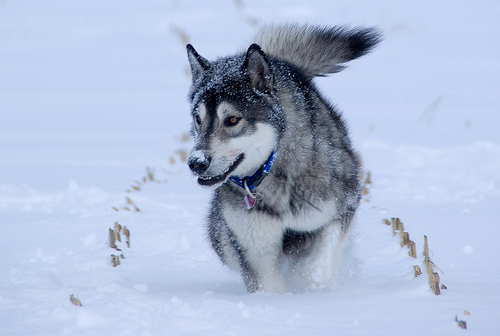dog: (186, 26, 380, 296)
